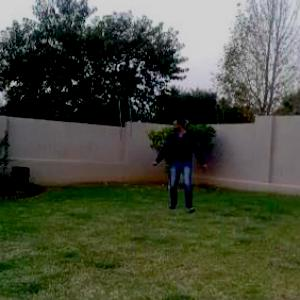land: (147, 99, 226, 227)
